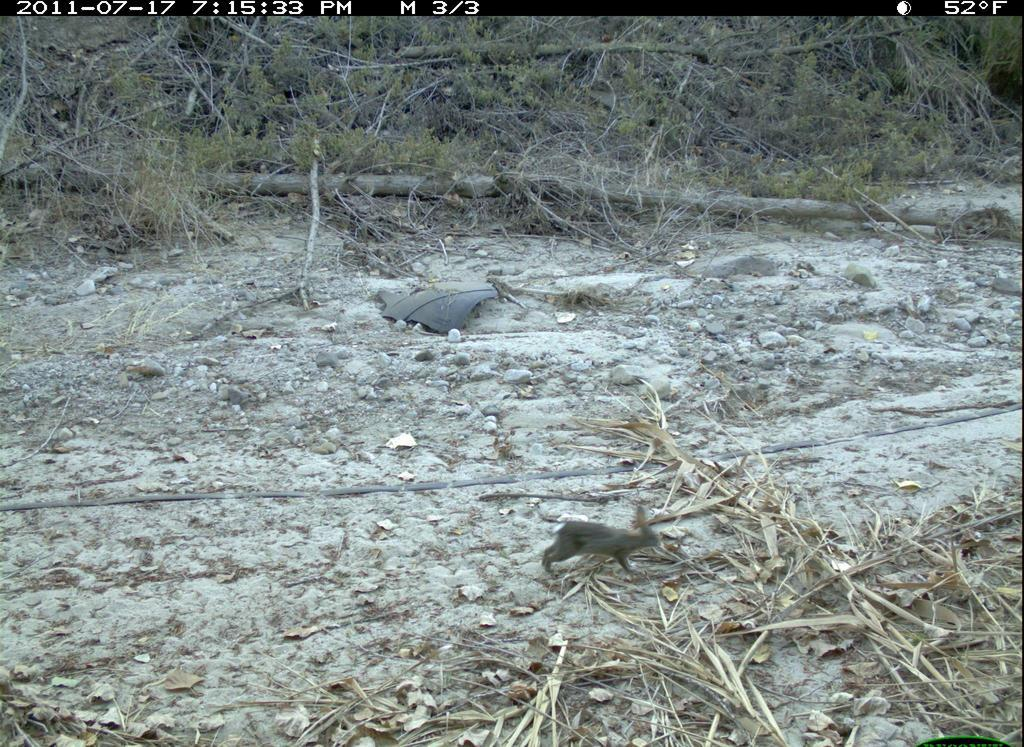rabbit: (533, 502, 671, 612)
